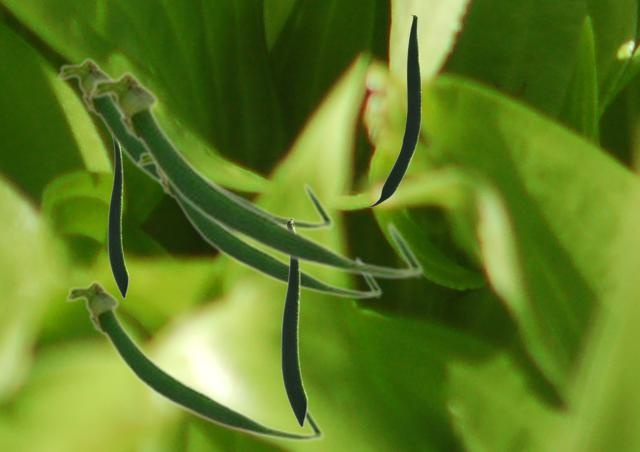french_bean: (87, 68, 424, 280), (55, 55, 334, 231), (64, 278, 324, 442), (135, 151, 382, 299), (368, 14, 420, 206), (280, 217, 307, 427), (107, 143, 128, 298)
